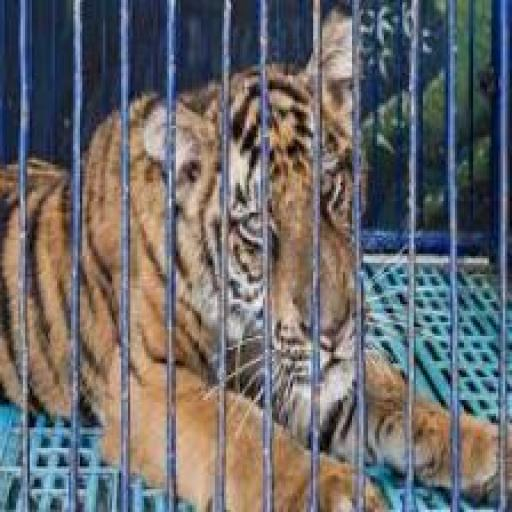Tiger: (11, 32, 495, 483)
